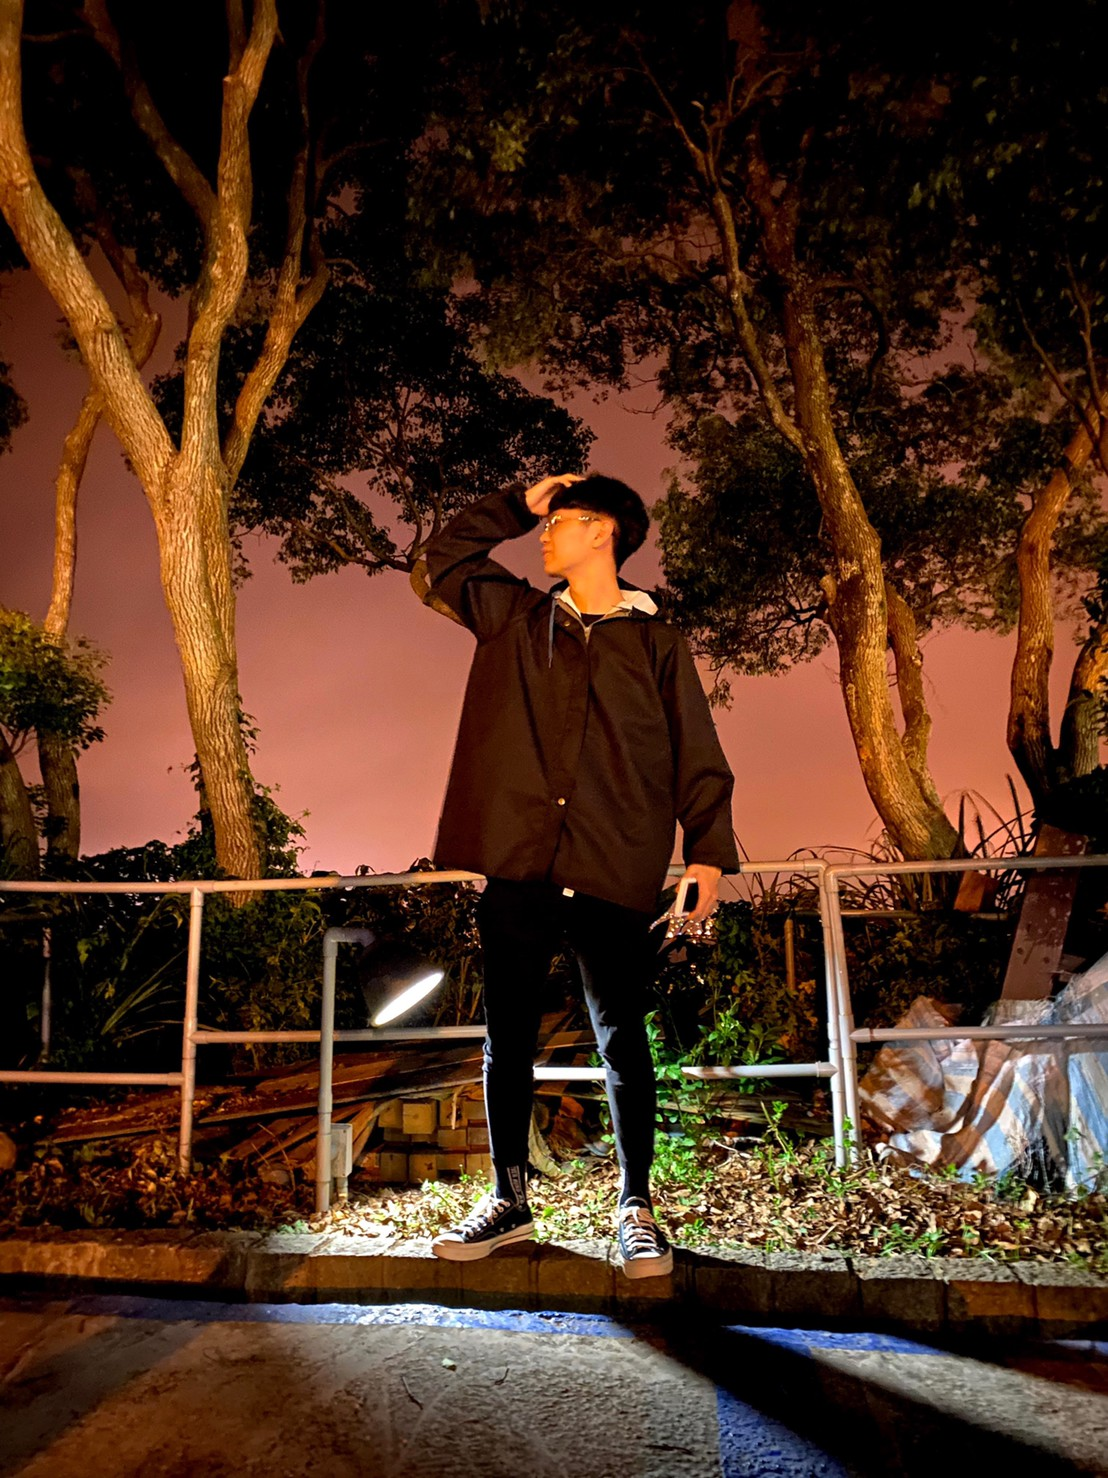people: (447, 469, 686, 1273)
